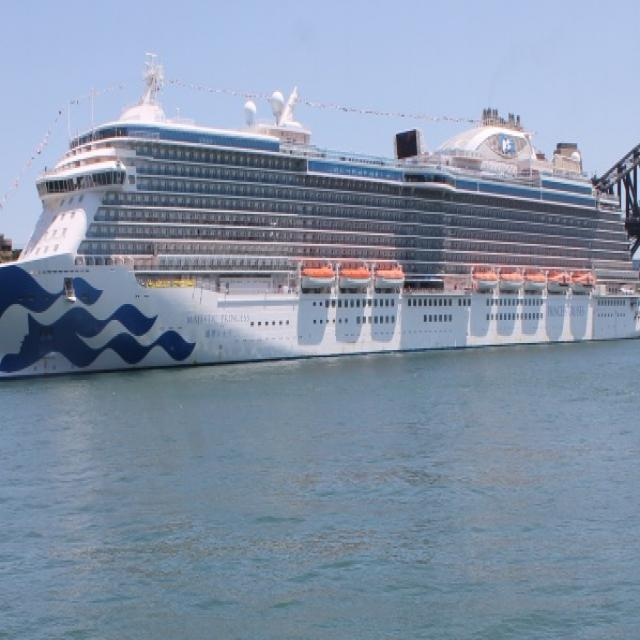cruises: (1, 45, 640, 392)
